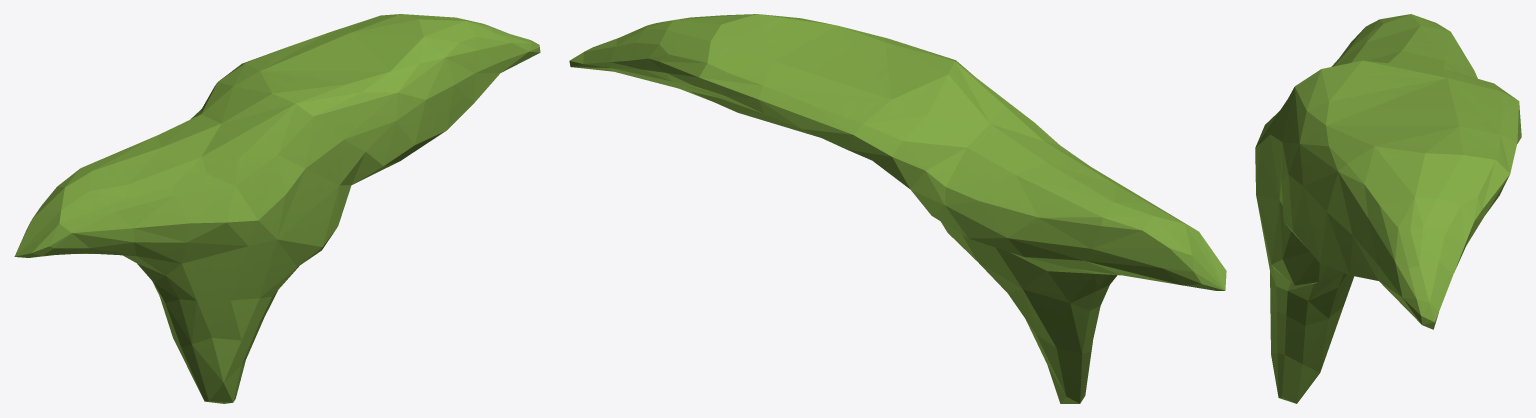
Rendered from Cavern_BushTopper-05.fbx.
3 views of the same model, side by side, from view 1: azimuth 30°, elevation 25°; view 2: azimuth 150°, elevation 25°; view 3: azimuth 270°, elevation 25° (orthographic). The views are drawn at different scales.
Parts seen in each view (by area): view 1: Cavern_BushTopper-05; view 2: Cavern_BushTopper-05; view 3: Cavern_BushTopper-05.
Part boxes in pixels (x1,y1,x2,y2): Cavern_BushTopper-05: (14, 14, 540, 403); Cavern_BushTopper-05: (569, 14, 1226, 403); Cavern_BushTopper-05: (1255, 14, 1521, 403).
Size of the model in its own units: 647 by 337 by 195.
1 material, 1 textured.
